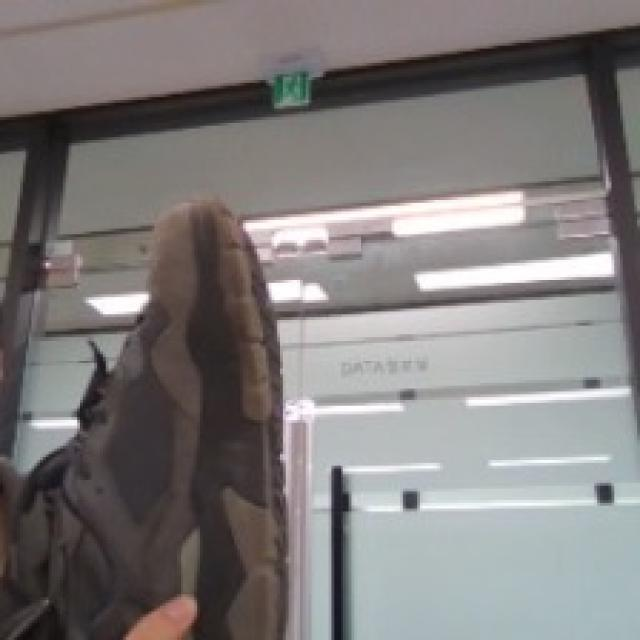shoe: (0, 172, 352, 616)
